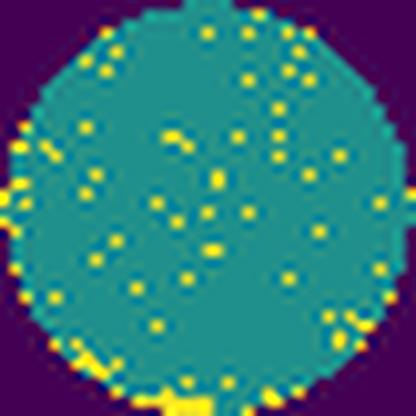Edge-Loc: (68, 334, 127, 390), (129, 382, 216, 416)
